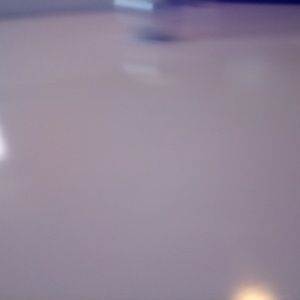zone: (58, 12, 300, 92)
